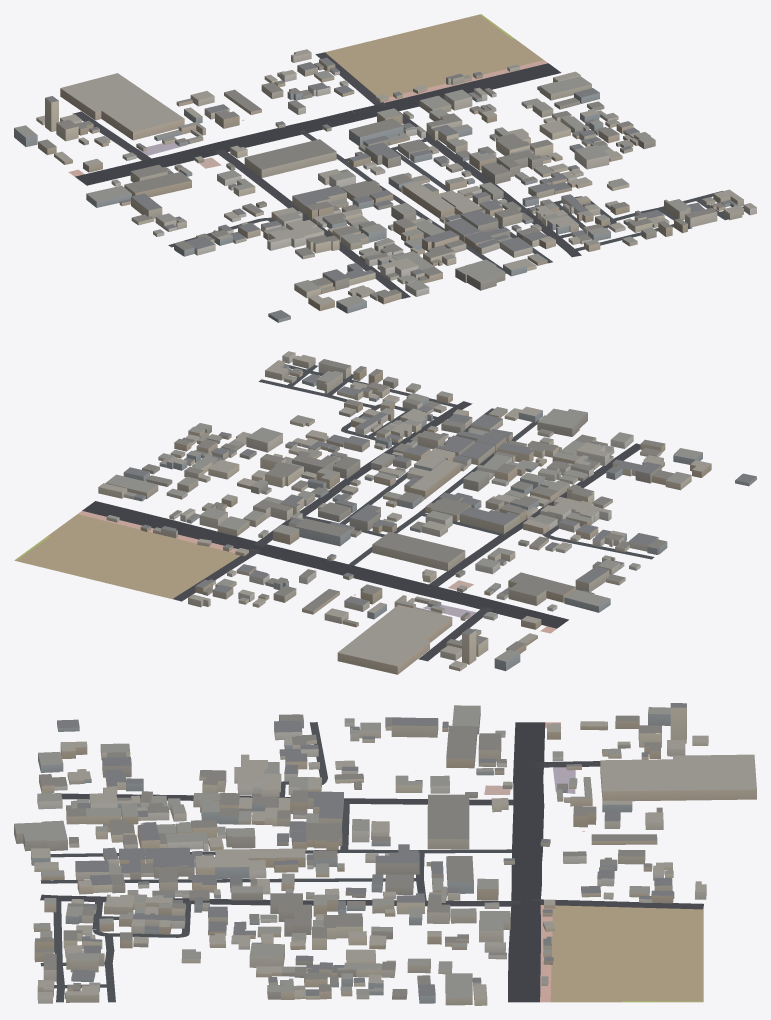
The picture shows the model from 3 angles, top to bottom: view 1: azimuth 30°, elevation 25°; view 2: azimuth 150°, elevation 25°; view 3: azimuth 270°, elevation 25°; orthographic projection. The views are drawn at different scales.
Parts seen in each view (by area): view 1: buildings_roofs, buildings_walls, roads, landuse; view 2: buildings_roofs, buildings_walls, roads, landuse; view 3: buildings_roofs, buildings_walls, roads, landuse.
Boxes of the visible parts, left/top/right/bottom form: buildings_roofs: left=14, top=49, right=756, bottom=319; buildings_walls: left=14, top=52, right=756, bottom=322; roads: left=72, top=52, right=743, bottom=298; landuse: left=68, top=14, right=547, bottom=176; buildings_roofs: left=99, top=351, right=756, bottom=667; buildings_walls: left=98, top=353, right=756, bottom=674; roads: left=82, top=364, right=654, bottom=661; landuse: left=14, top=511, right=556, bottom=633; buildings_roofs: left=14, top=703, right=756, bottom=998; buildings_walls: left=14, top=703, right=756, bottom=1005; roads: left=40, top=722, right=703, bottom=1002; landuse: left=484, top=722, right=703, bottom=1002.
Size of the model in its own units: 523 by 29.99 by 560.
